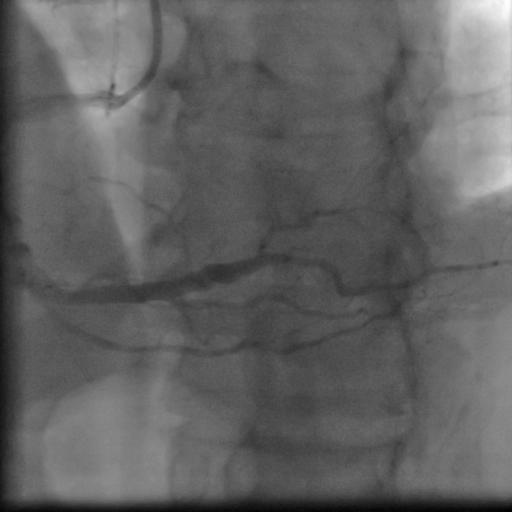Stenosis: (1, 214, 41, 277)
